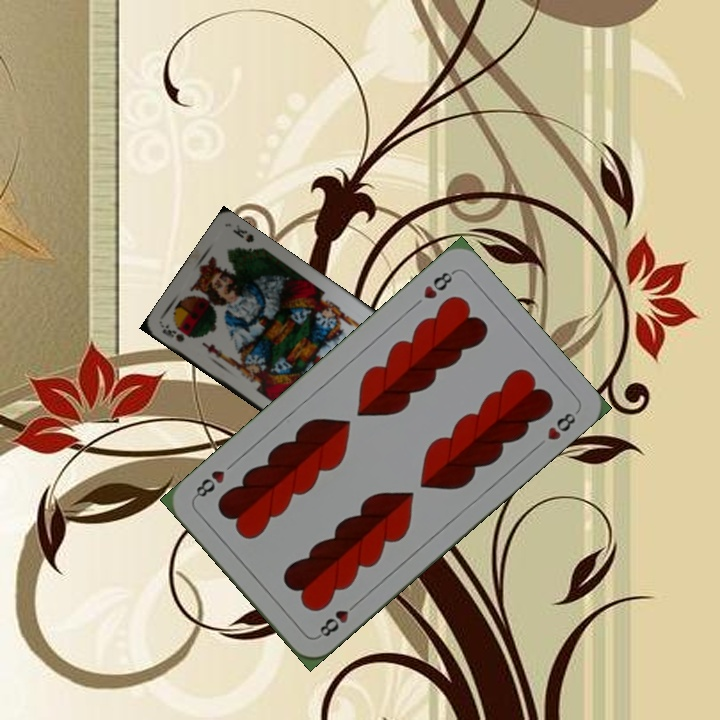H8: (313, 597, 362, 641), (419, 266, 458, 302)
SK: (158, 319, 187, 345)
